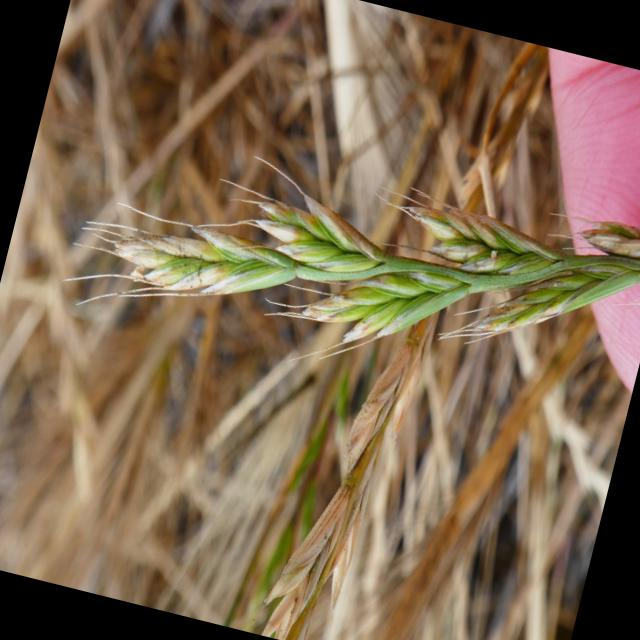Lolium: (55, 87, 640, 443), (269, 15, 586, 640)
